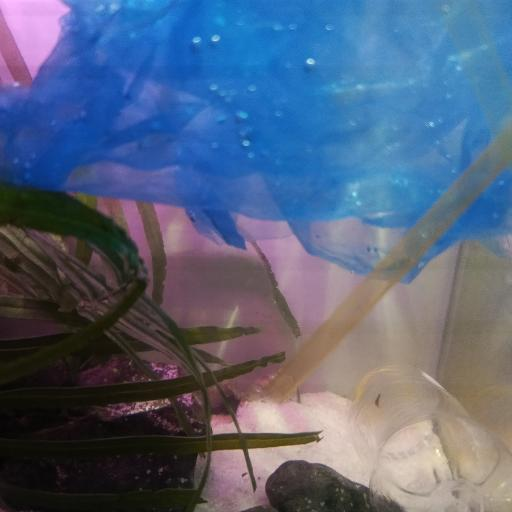plastic_bag: (0, 0, 512, 286)
plastic_bottle: (346, 359, 512, 512)
plastic_straw: (250, 114, 512, 396)
